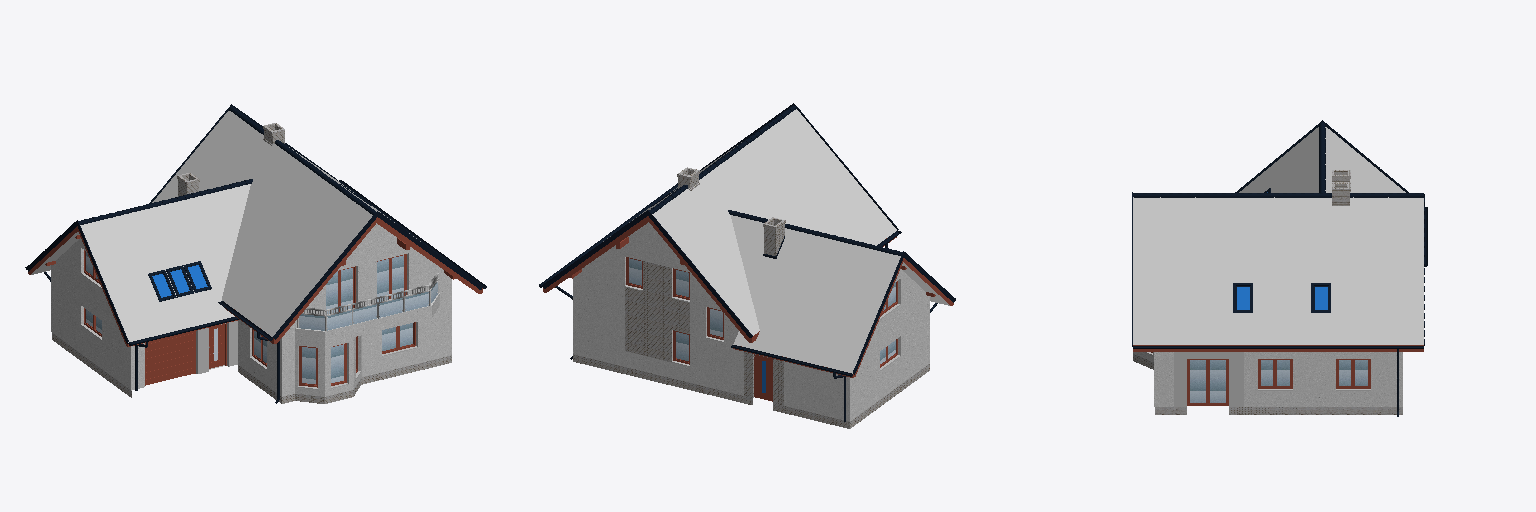
3 views of the same model, side by side, from view 1: azimuth 30°, elevation 25°; view 2: azimuth 150°, elevation 25°; view 3: azimuth 270°, elevation 25° (orthographic).
Parts seen in each view (by area): view 1: roof_Cube.002, wall_exterior_Plane.001, roof.001_Cube.003, window.011_Cube.018, barrels.001_Cube.011, cover_sides.001_Cube.057, door_garage_Cube.019, balcony_Cube.004, cover_roof.001_Circle.000, window_roof_Cube.068, gutter.001_Circle.001, chimney.002_Cube.098 (+1 smaller); view 2: wall_exterior_Plane.001, roof_Cube.002, roof.001_Cube.003, window.011_Cube.018, cover_sides.001_Cube.057, cover_roof.001_Circle.000, gutter.001_Circle.001, chimney.002_Cube.098, door_wing.013_Cube.102; view 3: roof_Cube.002, wall_exterior_Plane.001, roof.001_Cube.003, window.011_Cube.018, cover_roof.001_Circle.000, window_roof_Cube.068, gutter.001_Circle.001, cover_sides.001_Cube.057, chimney.002_Cube.098.
Part boxes in pixels (bbox=[...]): roof_Cube.002: bbox=[152, 111, 482, 343]; wall_exterior_Plane.001: bbox=[51, 223, 451, 403]; roof.001_Cube.003: bbox=[28, 184, 250, 346]; window.011_Cube.018: bbox=[81, 250, 417, 389]; barrels.001_Cube.011: bbox=[297, 273, 438, 330]; cover_sides.001_Cube.057: bbox=[26, 104, 482, 343]; door_garage_Cube.019: bbox=[145, 331, 195, 385]; balcony_Cube.004: bbox=[295, 293, 439, 343]; cover_roof.001_Circle.000: bbox=[79, 106, 375, 224]; window_roof_Cube.068: bbox=[148, 184, 406, 301]; gutter.001_Circle.001: bbox=[25, 180, 486, 403]; chimney.002_Cube.098: bbox=[177, 123, 284, 196]; wall_exterior_Plane.001: bbox=[573, 222, 929, 428]; roof_Cube.002: bbox=[543, 109, 896, 342]; roof.001_Cube.003: bbox=[731, 215, 953, 377]; window.011_Cube.018: bbox=[624, 257, 900, 370]; cover_sides.001_Cube.057: bbox=[542, 103, 954, 374]; cover_roof.001_Circle.000: bbox=[649, 105, 902, 255]; gutter.001_Circle.001: bbox=[539, 183, 955, 421]; chimney.002_Cube.098: bbox=[677, 167, 785, 258]; door_wing.013_Cube.102: bbox=[755, 355, 772, 401]; roof_Cube.002: bbox=[1133, 197, 1423, 351]; wall_exterior_Plane.001: bbox=[1133, 352, 1402, 414]; roof.001_Cube.003: bbox=[1239, 127, 1405, 192]; window.011_Cube.018: bbox=[1145, 352, 1370, 405]; cover_roof.001_Circle.000: bbox=[1133, 122, 1423, 197]; window_roof_Cube.068: bbox=[1233, 188, 1330, 312]; gutter.001_Circle.001: bbox=[1133, 207, 1427, 416]; cover_sides.001_Cube.057: bbox=[1132, 120, 1424, 346]; chimney.002_Cube.098: bbox=[1332, 170, 1350, 205].
Size of the model in its own units: 15.67 by 8.96 by 12.74.
12 materials, 4 textured.